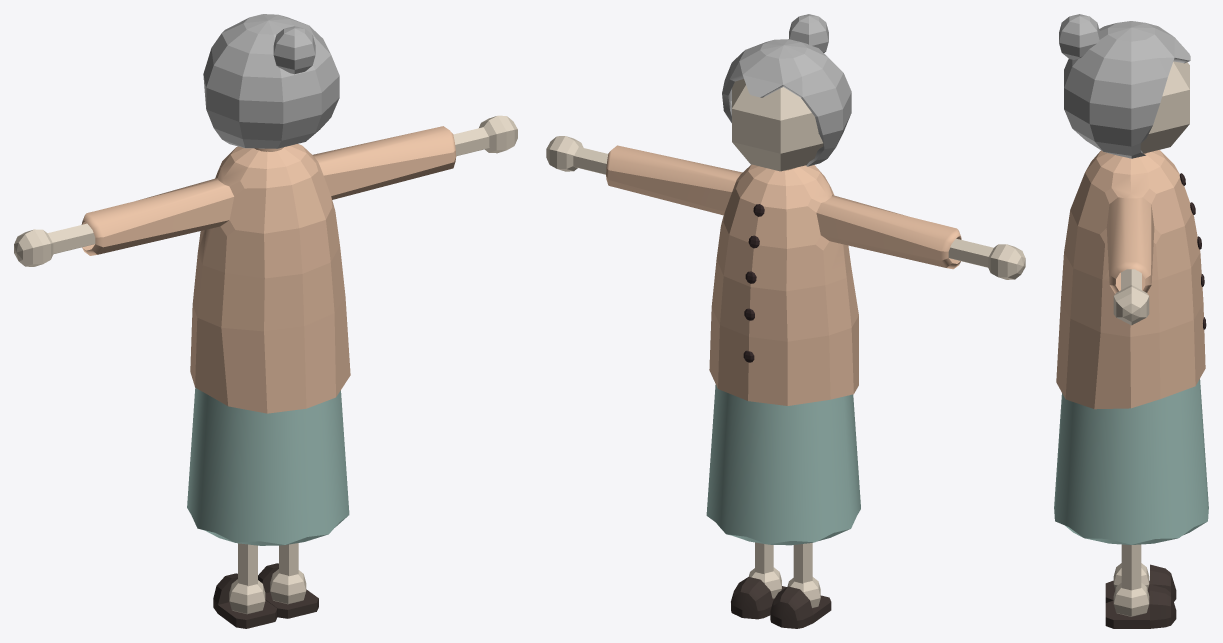
File: OldLady.fbx
3 renders of one model, left to right at view 1: azimuth 30°, elevation 25°; view 2: azimuth 150°, elevation 25°; view 3: azimuth 270°, elevation 25°, orthographic. The views are drawn at different scales.
Visible parts, largest first — view 1: pSphere1, skirt4, hair2, hand (×2), foot (×2), small_arm (×2), hair, shoes, shoes8, small_leg; view 2: pSphere1, skirt4, hair2, face, hand (×2), shoes, small_arm (×2), shoes8, hair, small_leg; view 3: pSphere1, skirt4, hair2, face, shoes8, hair, foot (×2), hand, small_leg, shoes, small_arm.
Part boxes in pixels (x1,y1,x2,y2): pSphere1: (81,126,456,413); skirt4: (187,388,349,545); hair2: (203,14,339,148); hand (×2): (14,115,517,266); foot (×2): (229,569,306,614); small_arm (×2): (47,127,489,254); hair: (273,26,315,74); shoes: (213,573,277,628); shoes8: (258,563,318,618); small_leg: (238,543,257,586); pSphere1: (606,145,961,405); skirt4: (706,384,860,545); hair2: (722,39,851,166); face: (732,79,823,171); hand (×2): (546,136,1025,279); shoes: (770,586,831,628); small_arm (×2): (573,147,993,267); shoes8: (731,577,786,619); hair: (789,14,828,52); small_leg: (793,543,812,583); pSphere1: (1056,150,1205,409); skirt4: (1054,379,1208,544); hair2: (1064,21,1190,158); face: (1140,61,1189,153); shoes8: (1105,584,1176,628); hair: (1059,14,1099,59); foot (×2): (1113,563,1149,616); hand: (1113,285,1149,325); small_leg: (1121,544,1141,590); shoes: (1105,564,1176,602); small_arm: (1121,269,1141,289).
Size of the model in its own units: 13.57 by 15.63 by 3.7.
